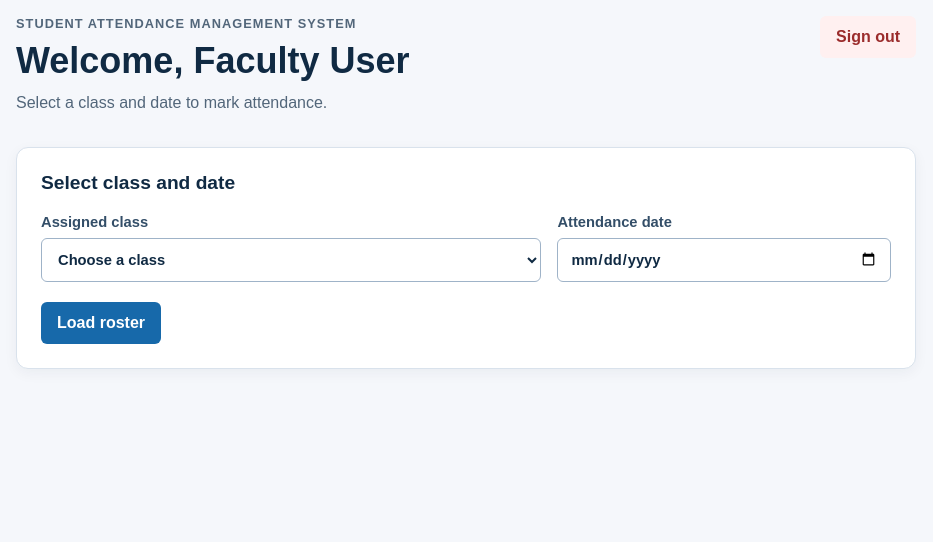
Test case: shows an empty state for a class with no enrolled students
The image size is (933, 542).
Step 1. Select "CS301 — Database Systems · Section A · 2026-27" in the dropdown with id "assigned-class" → (291, 260), box [41, 238, 541, 282]
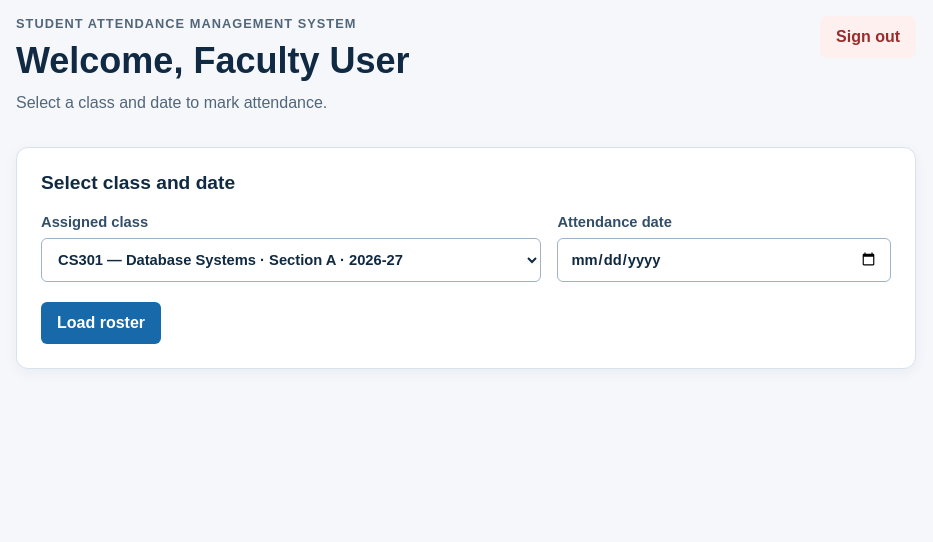
Step 2. Select "CS301 — Database Systems · Section A · 2026-27" in the dropdown with id "assigned-class" → (291, 260), box [41, 238, 541, 282]
Step 3. Type "2026-10-23" into the date field with id "attendance-date" → (724, 260), box [557, 238, 891, 282]
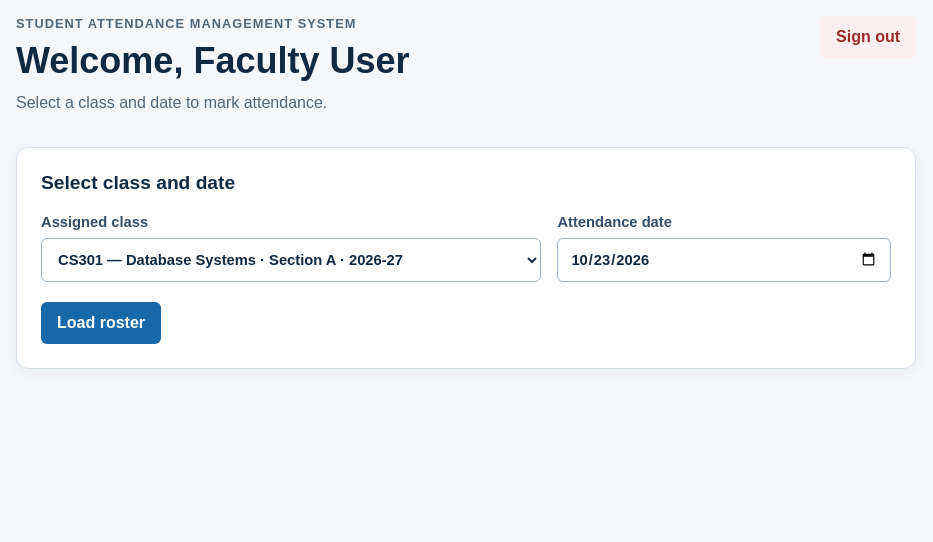
Step 4. Submit the form, box [41, 214, 891, 344]
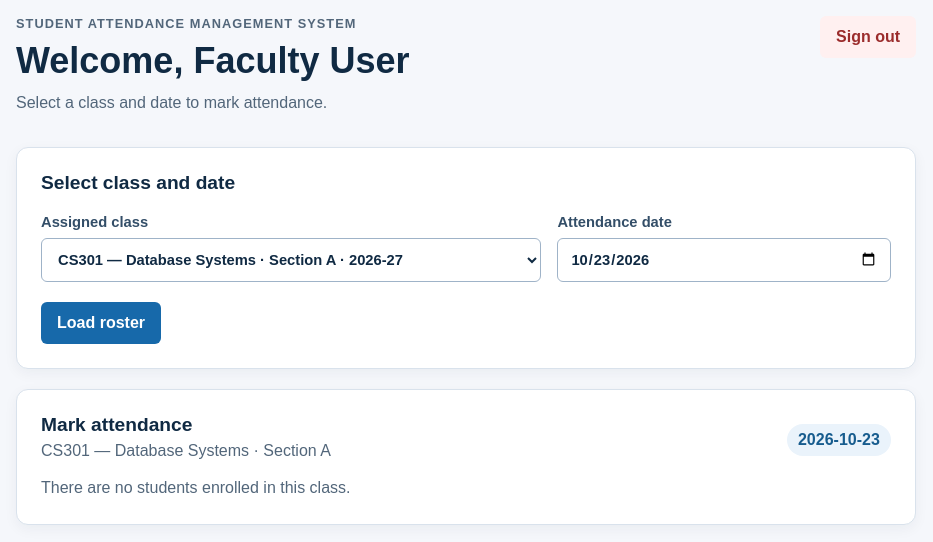
Now the text "There are no students enrolled in this class" is shown, box [41, 479, 350, 496]
